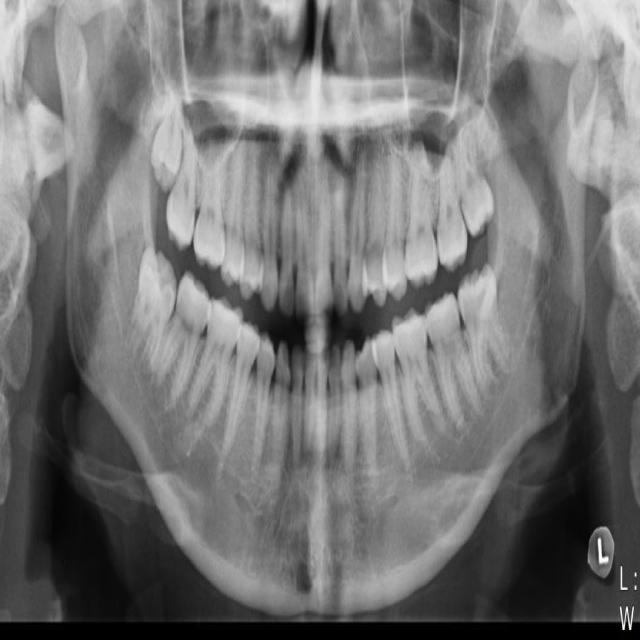3M ESPE Implant: (147, 79, 190, 195)
73: (580, 572, 586, 588)
BioHorizons Implant: (436, 118, 468, 271)
BioLife Implant: (453, 119, 498, 238)
Biomet 3i Implant: (451, 260, 517, 397)
Blue Sky Bio Implant: (418, 290, 488, 436)
Caries: (160, 112, 208, 253)
Implant: (151, 270, 220, 407)
Keystone Dental Implant: (121, 245, 184, 379)
